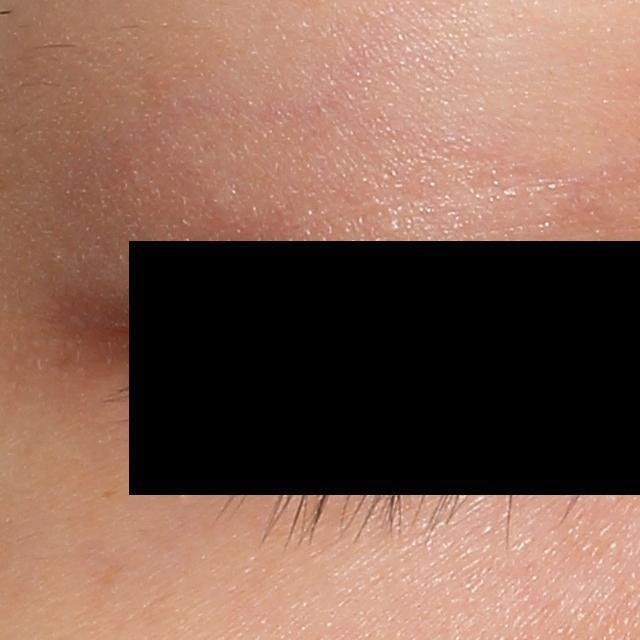melasma: (101, 487, 117, 498)
